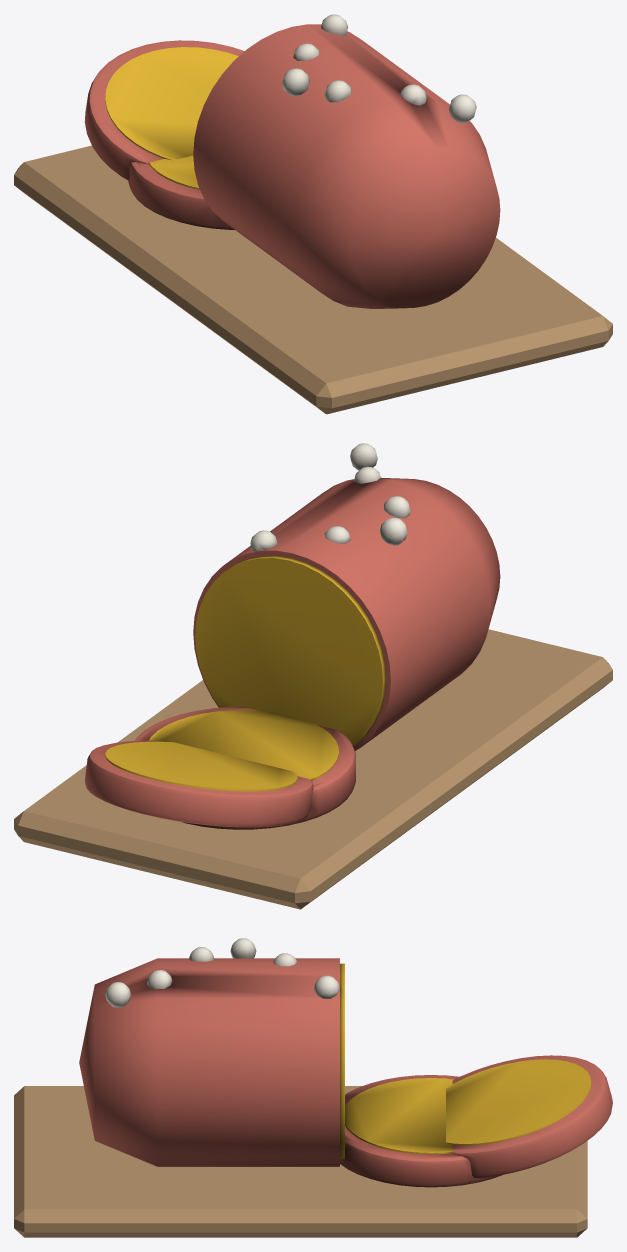
Rendered from meal_loaf.glb.
3 views of the same model, one above another, from view 1: azimuth 30°, elevation 25°; view 2: azimuth 150°, elevation 25°; view 3: azimuth 270°, elevation 25° (orthographic). The views are drawn at different scales.
Parts seen in each view (by area): view 1: PART; view 2: PART; view 3: PART.
Boxes of the visible parts, left/top/right/bottom form: PART: left=14, top=14, right=612, bottom=414; PART: left=14, top=443, right=612, bottom=909; PART: left=14, top=938, right=612, bottom=1237.
Size of the model in its own units: 0.12 by 0.091 by 0.2297.
